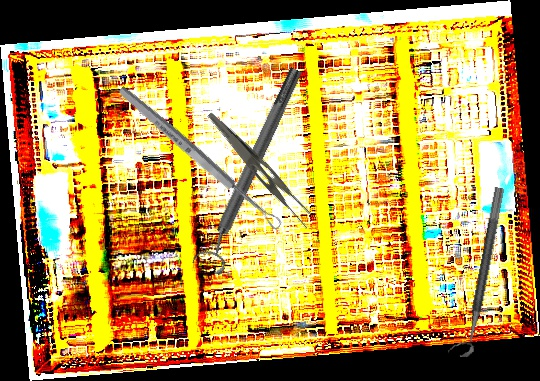Dressing Forceps: (195, 111, 322, 231)
Fixation Ring: (188, 62, 315, 277), (447, 184, 506, 359)
Surgical Spoon: (116, 83, 284, 233)
